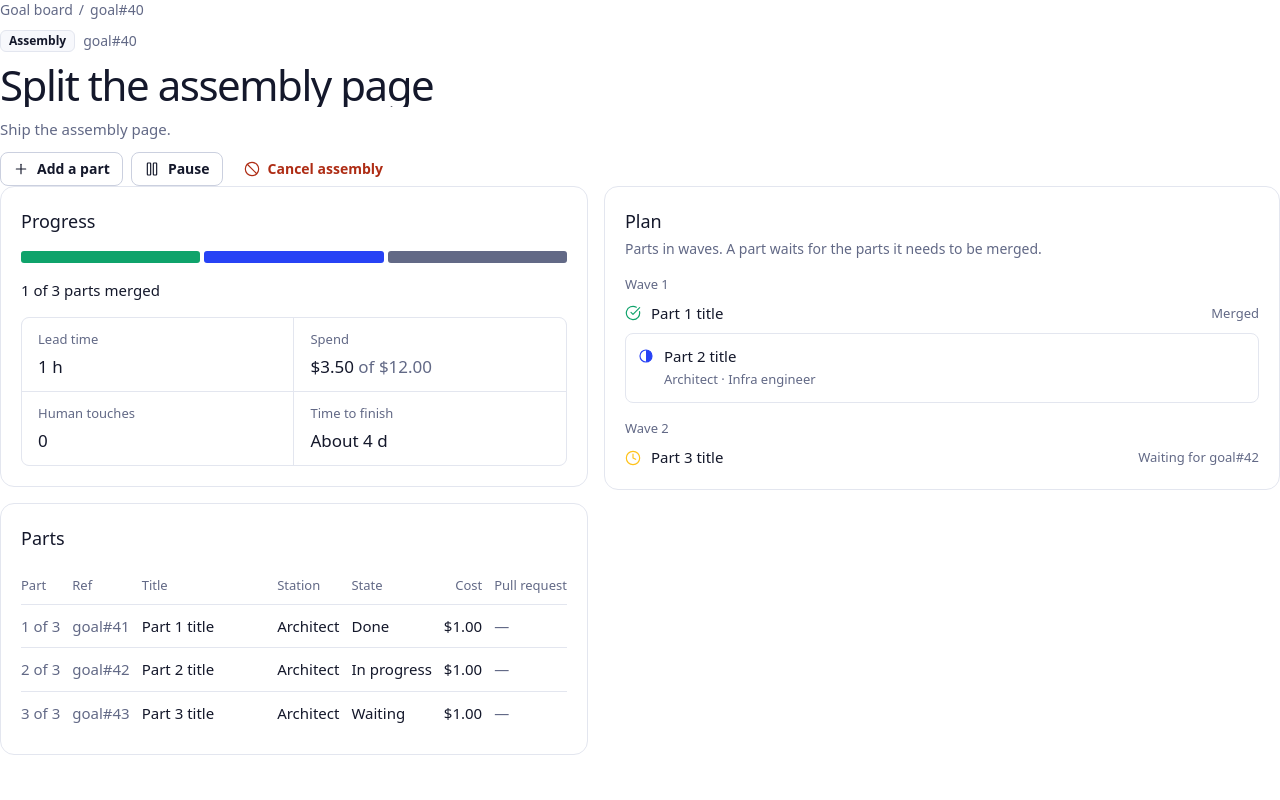
Test case: Add a part dialog › closes on success, says so, and leaves no error behind
Expected: the heading "Split the assembly page" is shown, [0,56,433,113]
Click the button "Add a part": point(61, 169) [0,152,123,186]
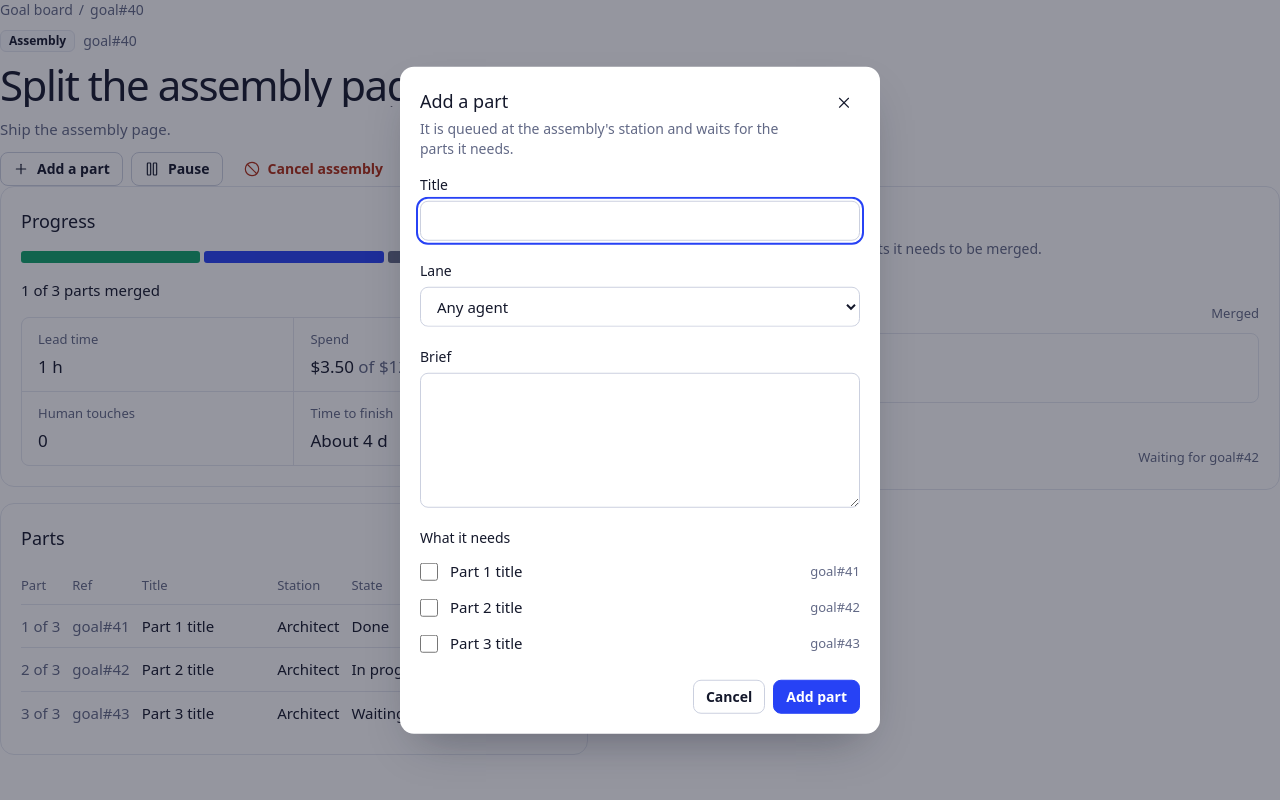
In the field labelled "Title": point(640, 221) [420,201,860,241], type "Ship the cache"
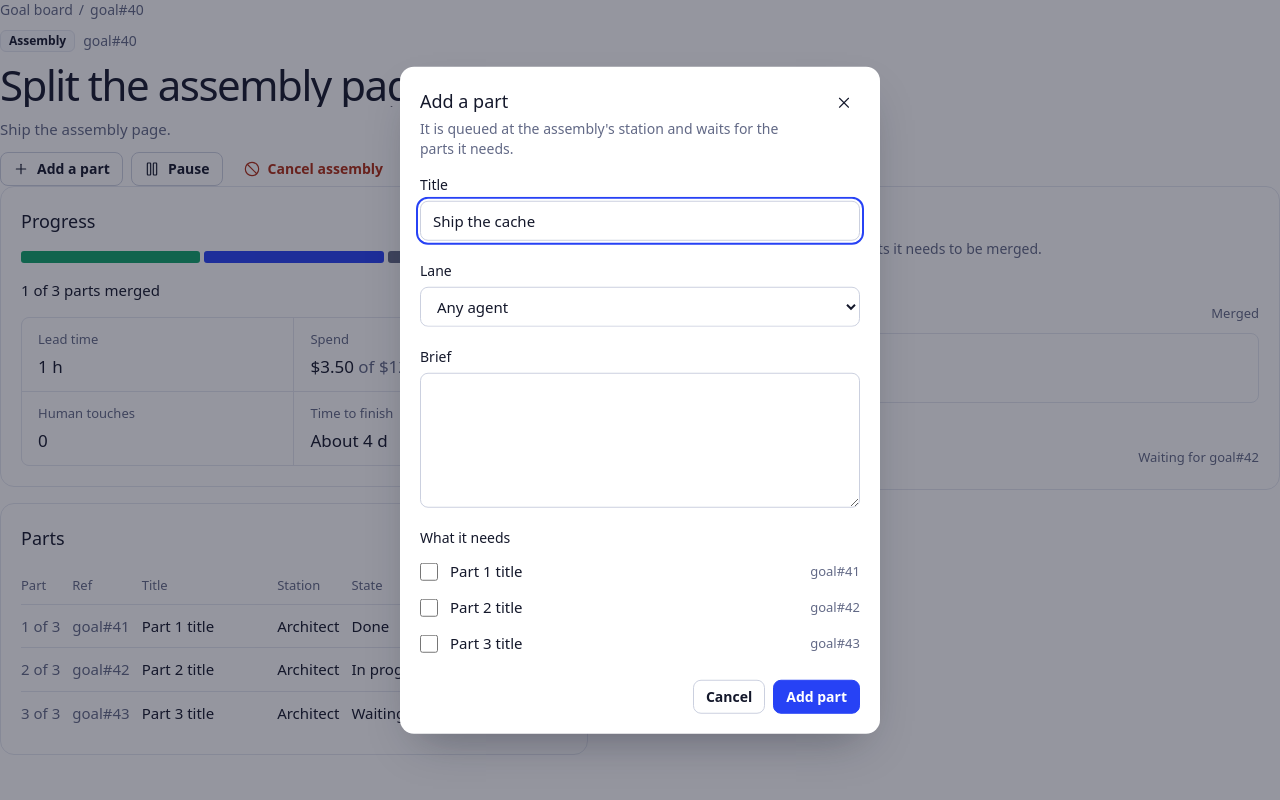
In the text box labelled "Brief": point(640, 440) [420,373,860,507], type "Warm it."
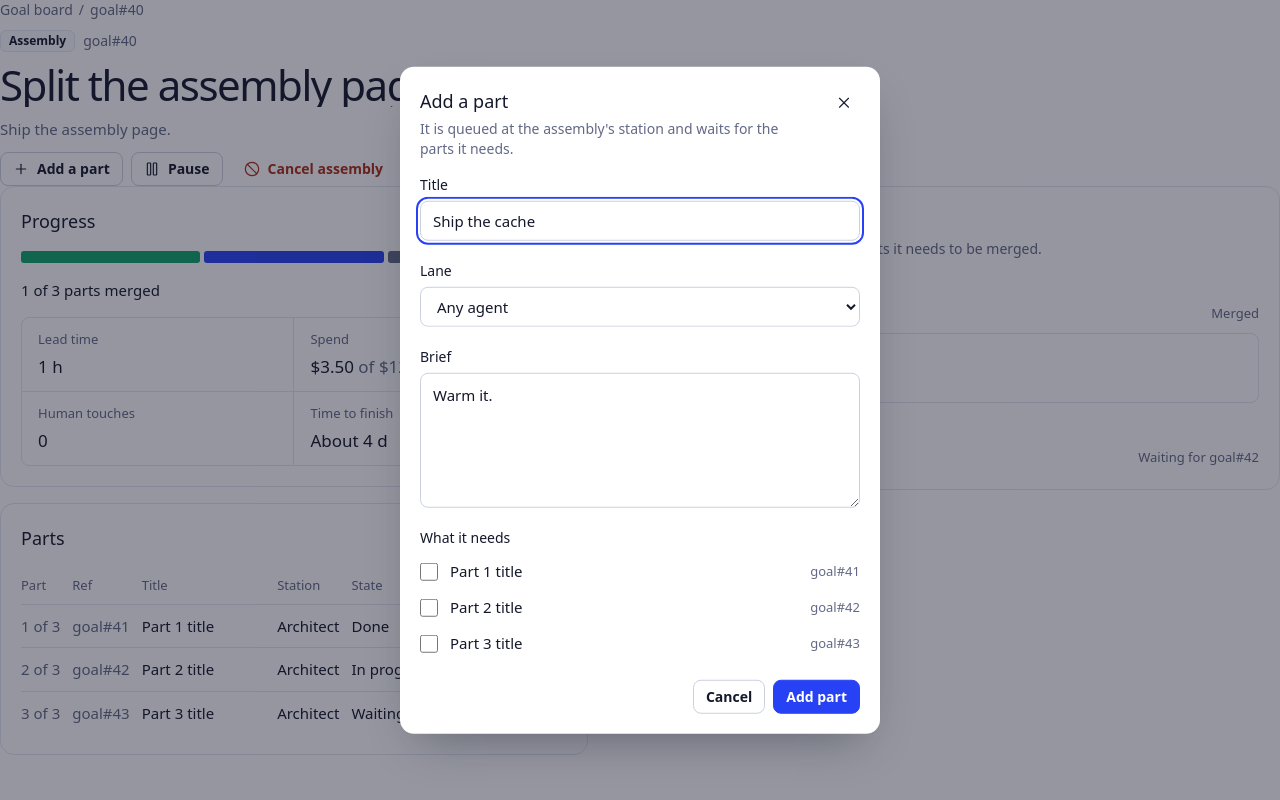
Click the button "Add part": point(817, 696) [773,679,860,713]
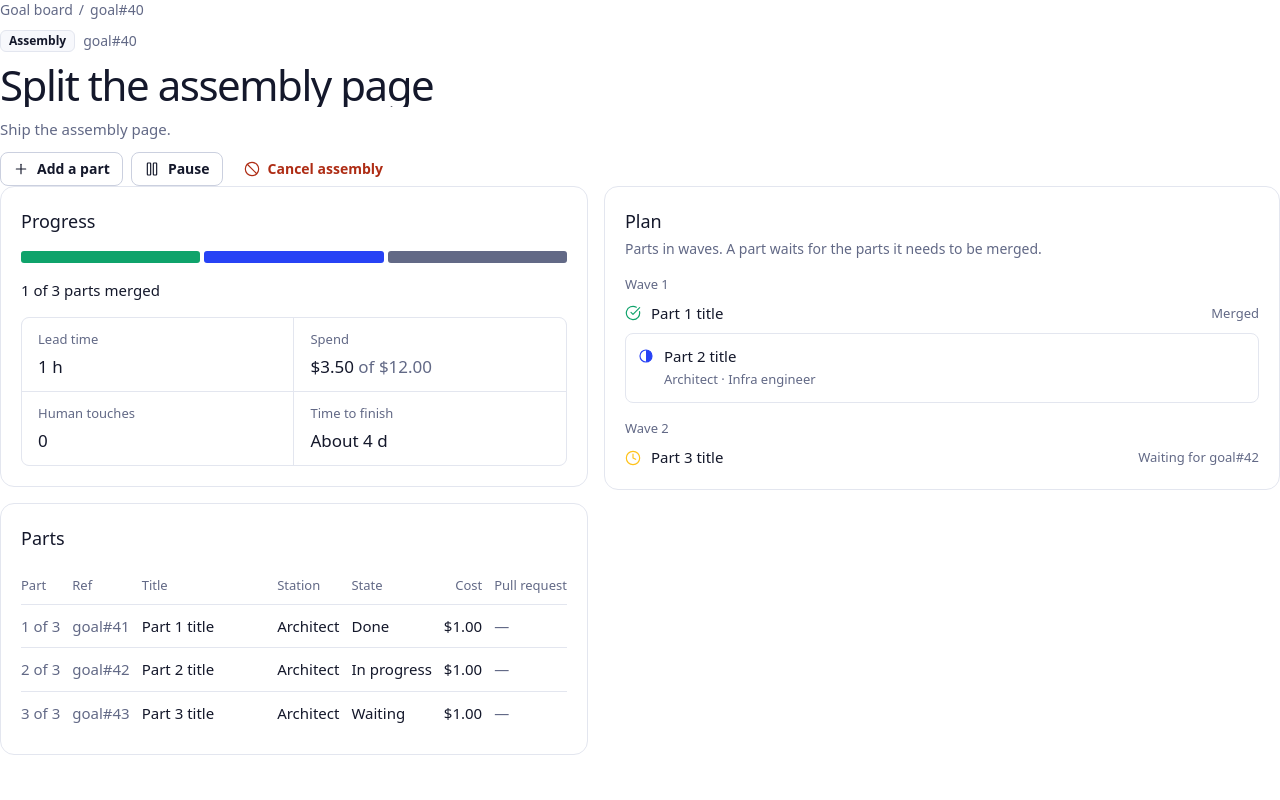
Expected: the dialog is gone
